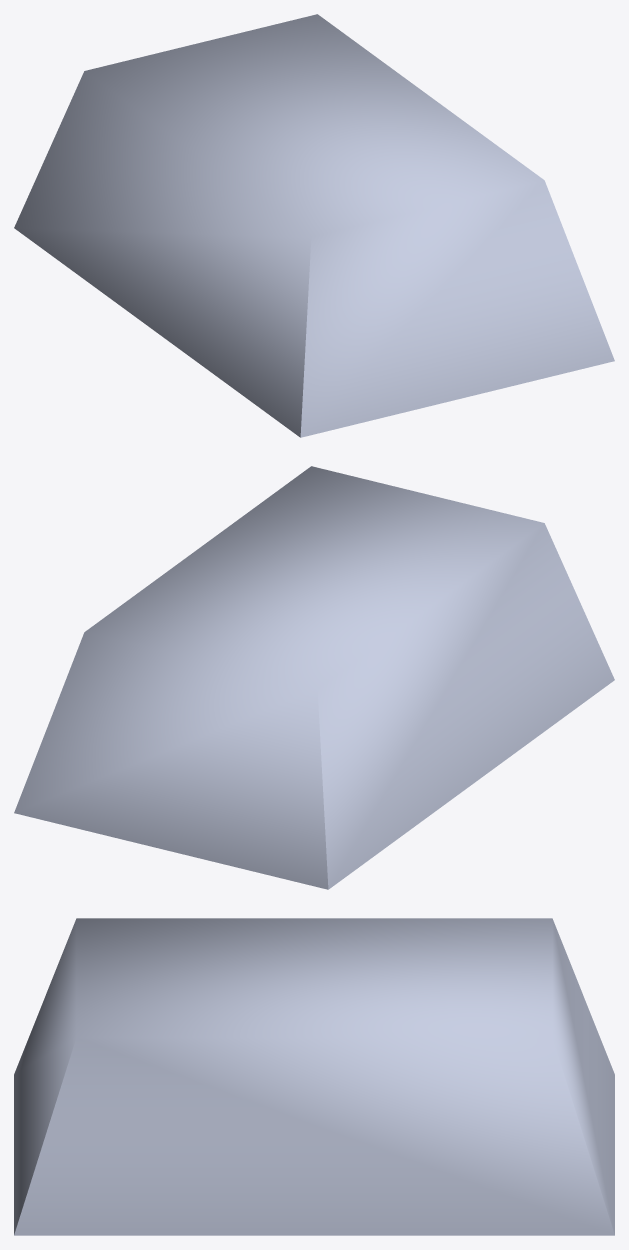
The model's file is Iron_Bar.fbx.
The picture shows the model from 3 angles, top to bottom: view 1: azimuth 30°, elevation 25°; view 2: azimuth 150°, elevation 25°; view 3: azimuth 270°, elevation 25°; orthographic projection. The views are drawn at different scales.
Visible parts, largest first — view 1: Model; view 2: Model; view 3: Model.
Boxes of the visible parts, bbox=[...] form: Model: bbox=[14, 14, 614, 437]; Model: bbox=[14, 466, 614, 889]; Model: bbox=[14, 918, 614, 1235].
Bounding box in the file's own units: 69.86 × 35.87 × 110.
